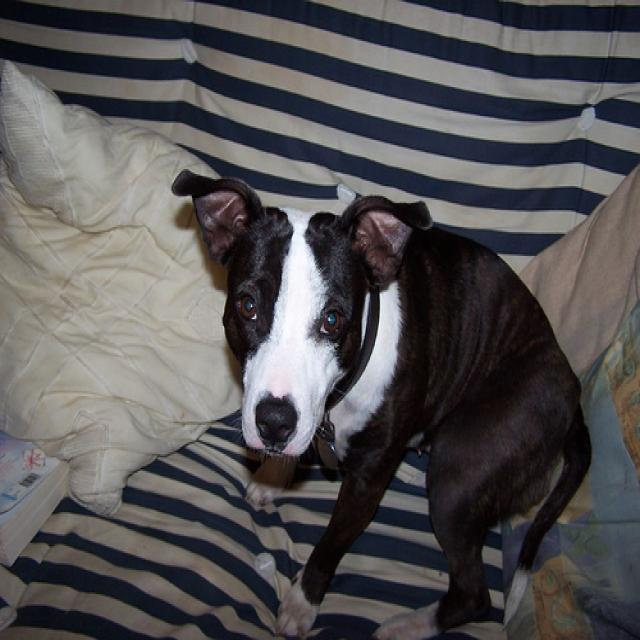dog: (170, 166, 430, 454)
